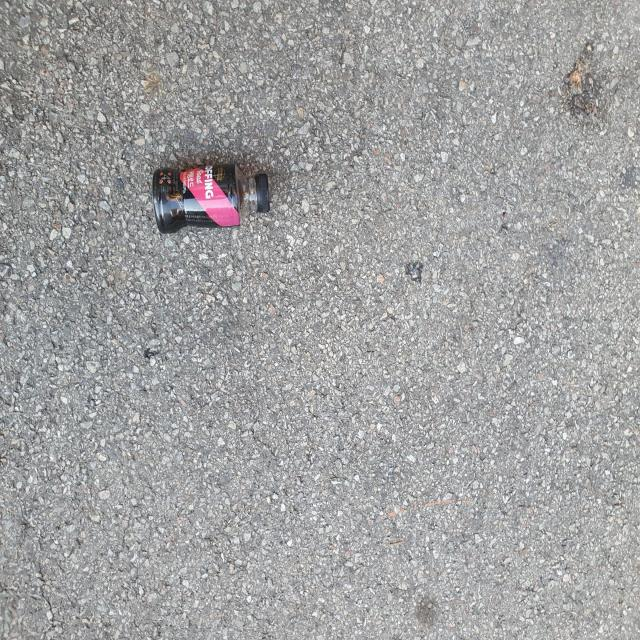plastic: (152, 163, 270, 233)
